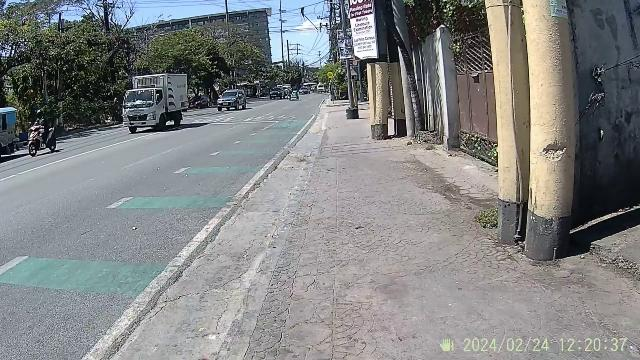utility_post: (487, 0, 577, 260), (364, 0, 408, 138), (284, 38, 304, 72)
